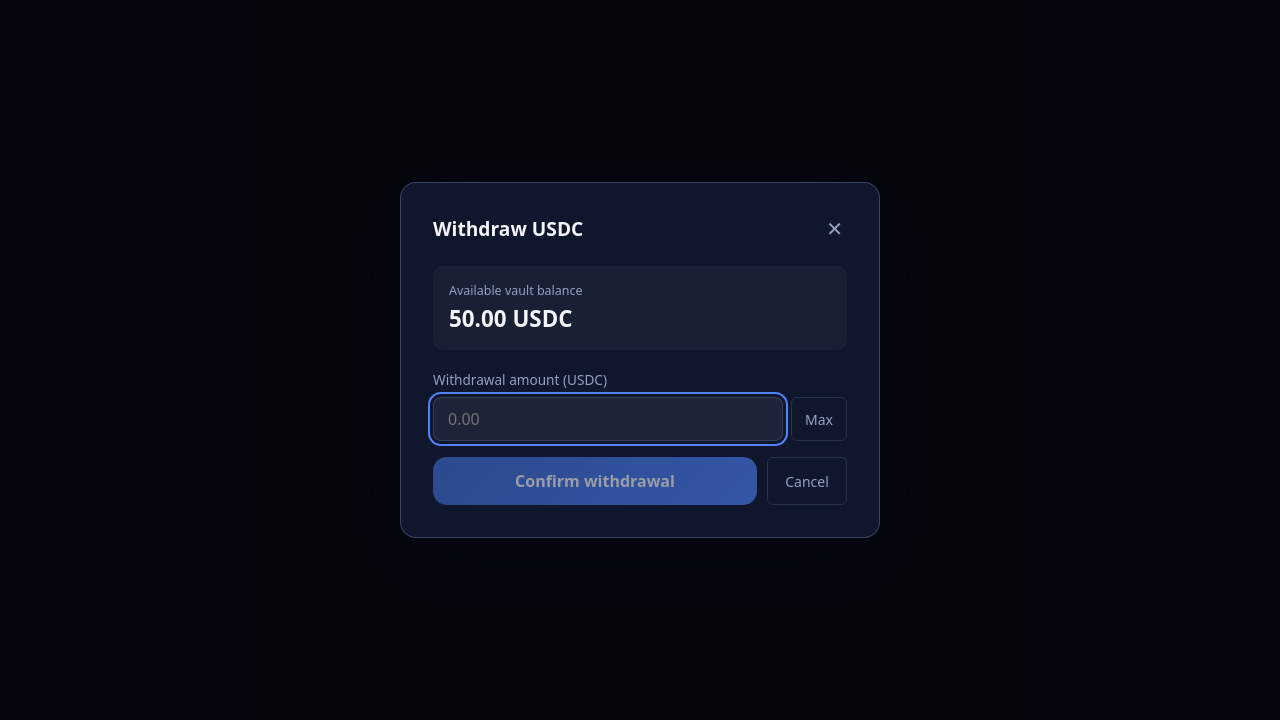
WithdrawModal – stage transitions › shows retry button after failure and re-enables the form
In the field labelled "Withdrawal amount (USDC)": point(608, 419) [433,397,783,441], type "10"
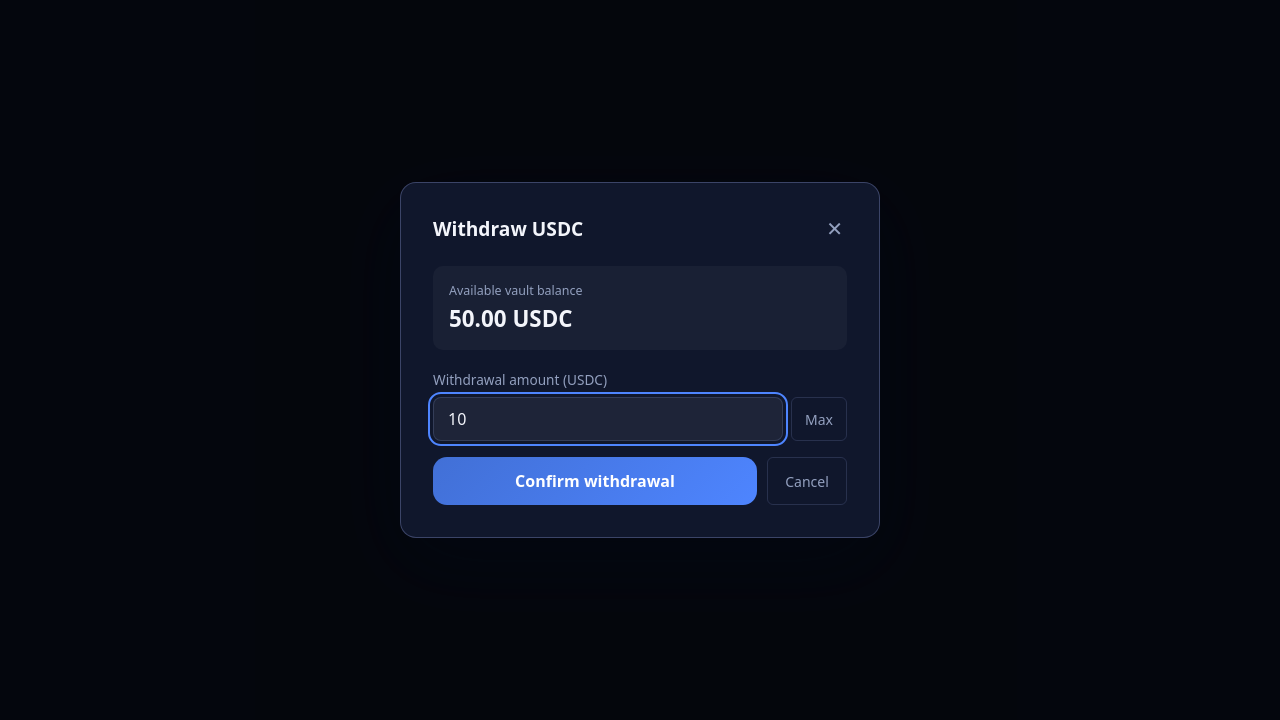
Click the button "Confirm withdrawal": point(595, 481) [433,457,757,505]
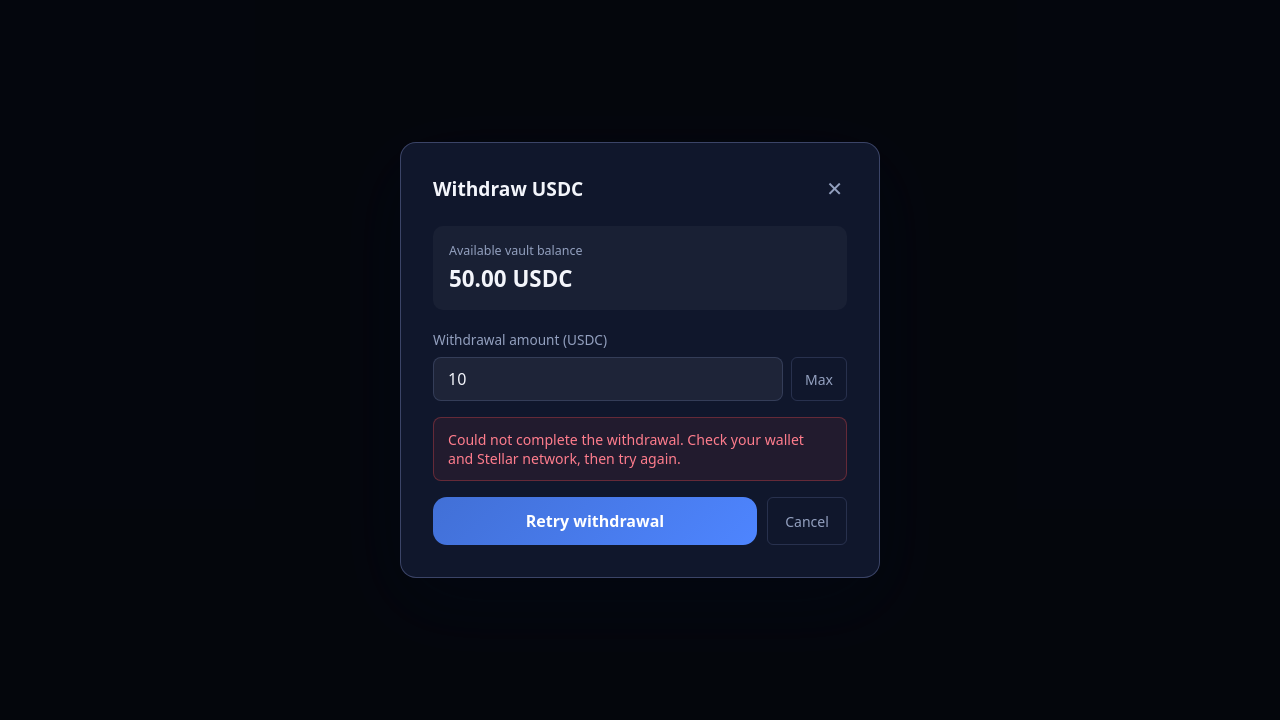
expect the button "Retry withdrawal" is shown: met, box [433,497,757,545]
